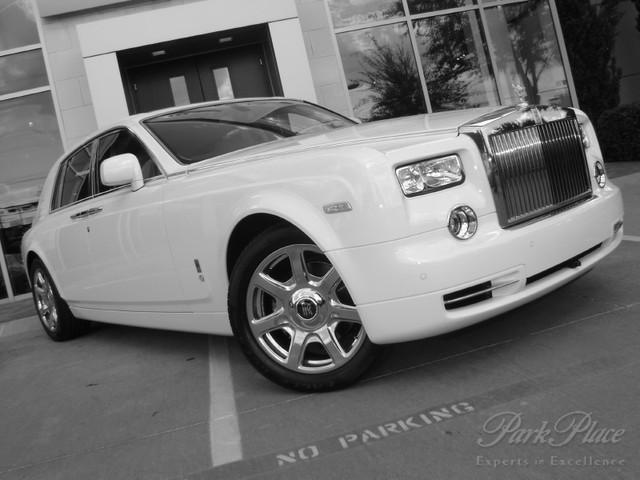car: (18, 86, 631, 401)
